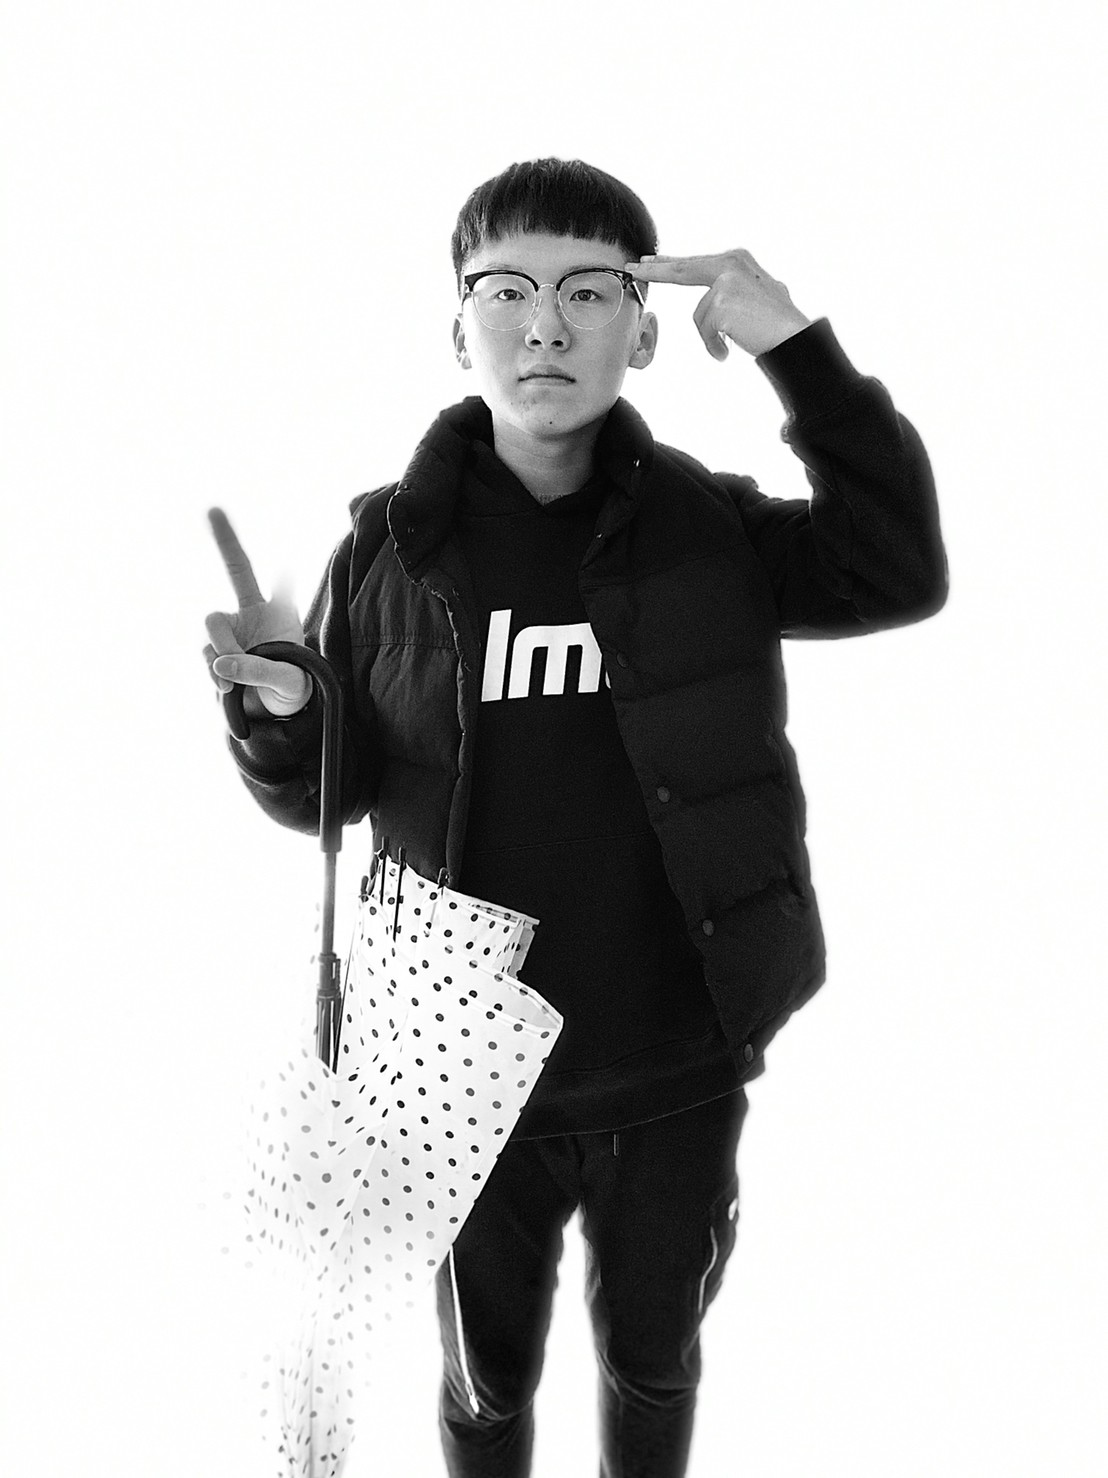people: (357, 159, 728, 1478)
